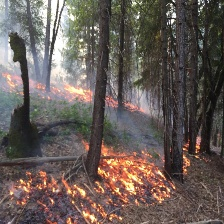fire: (9, 138, 207, 224), (2, 70, 143, 111)
